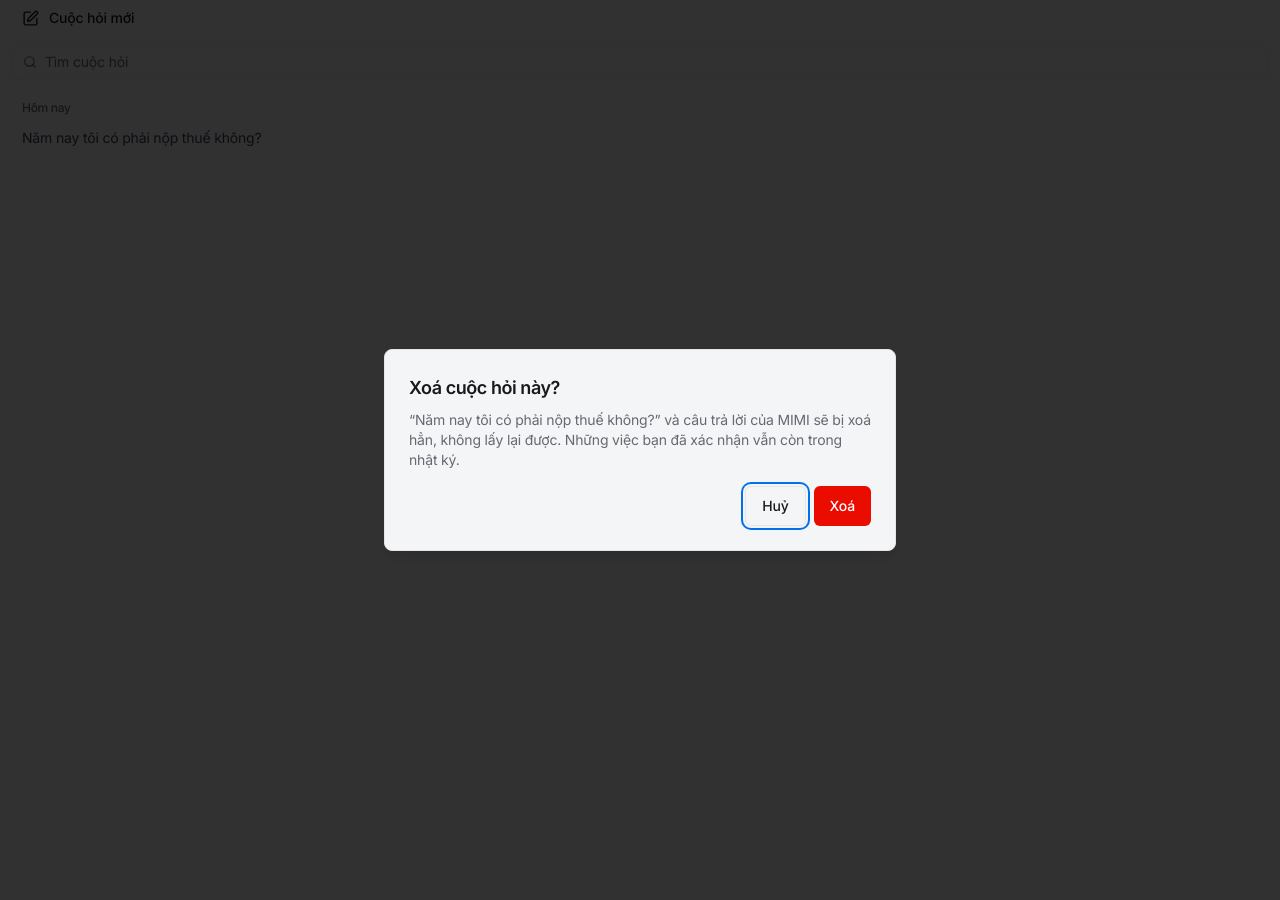
Test: danh sách lịch sử › xoá phải xác nhận trước; xác nhận xong mới gọi xoá
Earlier steps of the test are not shown.
Click the button "Xoá": point(842, 506) left=814, top=486, right=871, bottom=526
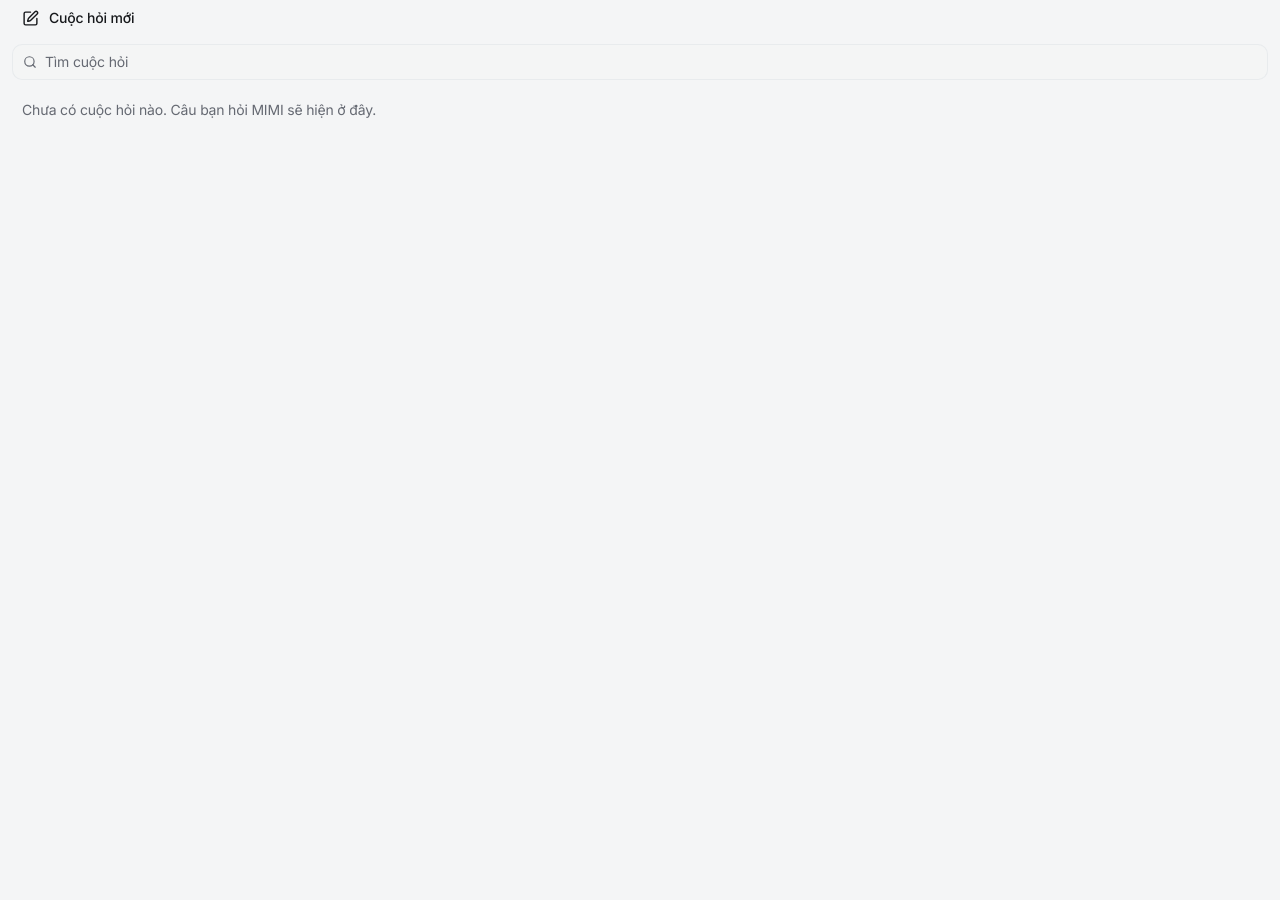
Now the button "Năm nay tôi có phải nộp thuế không?" is gone
